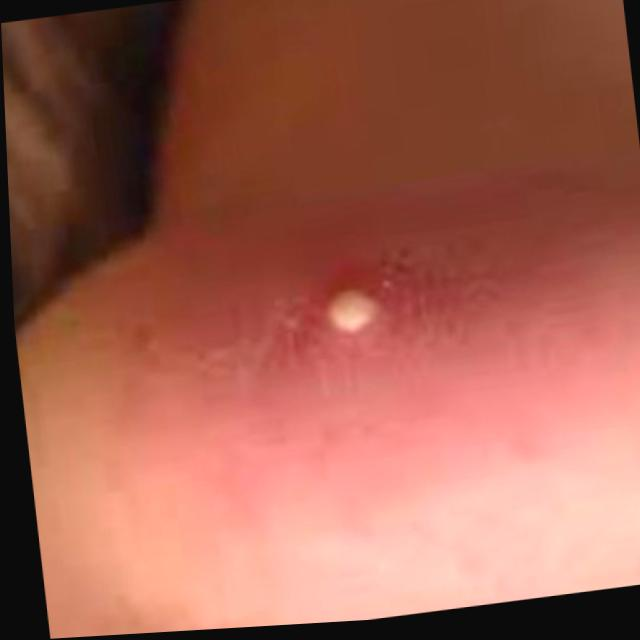pustule: (253, 254, 448, 391)
